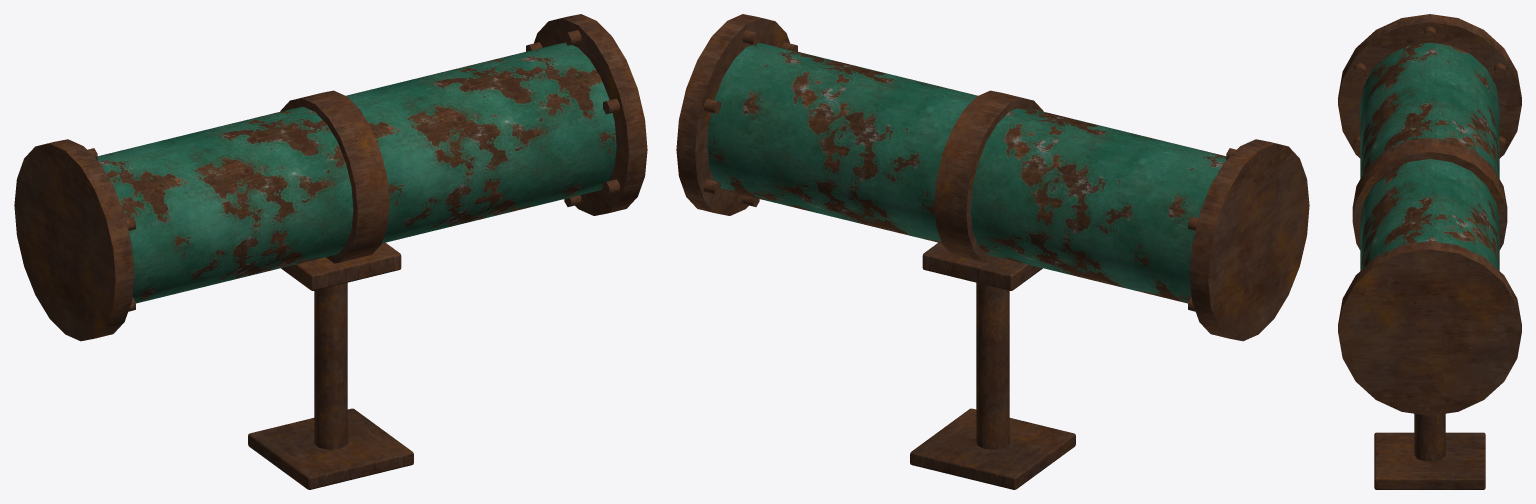
The model's file is prop_pipe.glb.
3 views of the same model, side by side, from view 1: azimuth 30°, elevation 25°; view 2: azimuth 150°, elevation 25°; view 3: azimuth 270°, elevation 25° (orthographic). The views are drawn at different scales.
Visible parts, largest first — view 1: prop; view 2: prop; view 3: prop.
Boxes of the visible parts, bbox=[...] form: prop: bbox=[14, 14, 647, 489]; prop: bbox=[676, 14, 1309, 489]; prop: bbox=[1338, 14, 1521, 489].
Size of what is drawn, in the model's own units: 1 by 0.665 by 0.33.
Materials: 2 (2 with a texture image).
